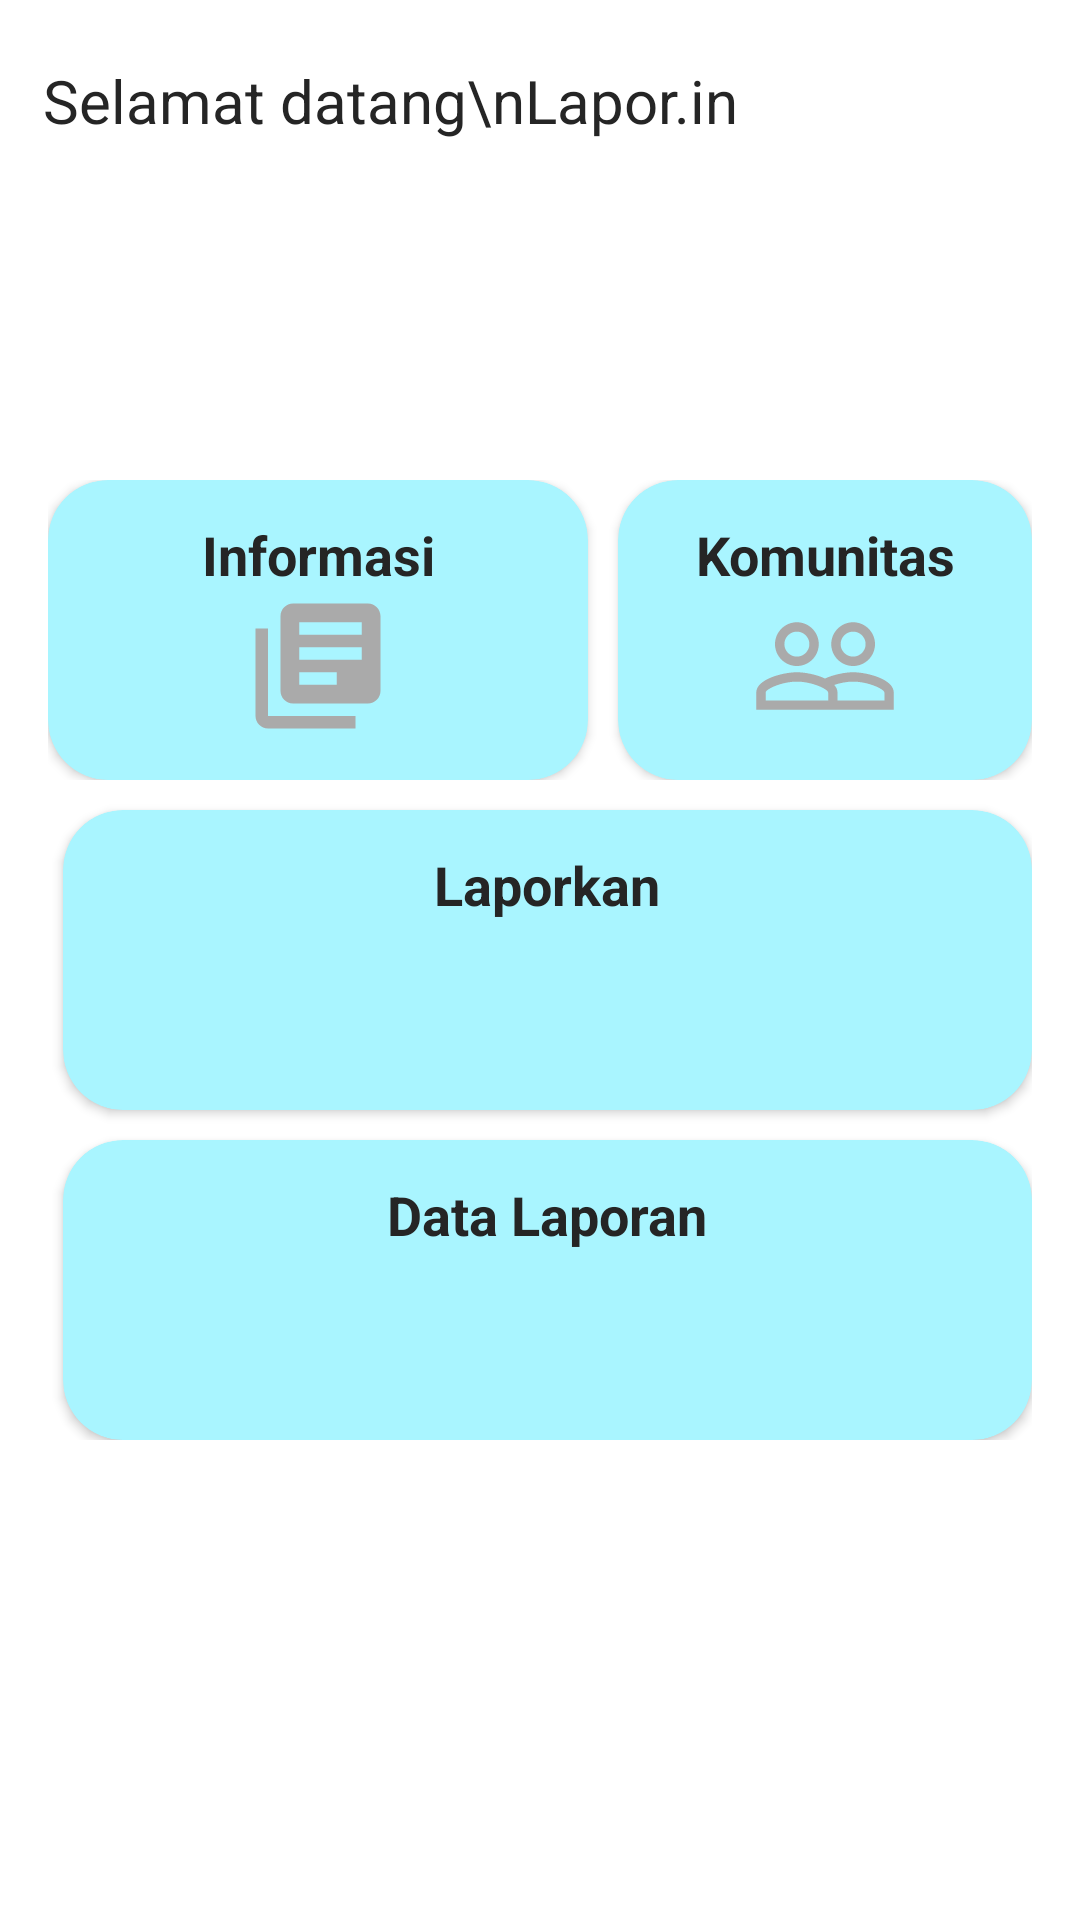

Icon bounding boxes for this 1080 × 1920 phone screenshot, format region(x1, y1, x2, y2):
library books: region(255, 603, 381, 729)
people: region(756, 622, 894, 710)
